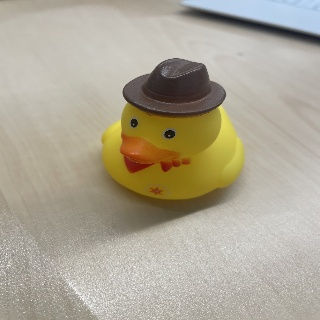duck_specialty: (101, 57, 243, 198)
